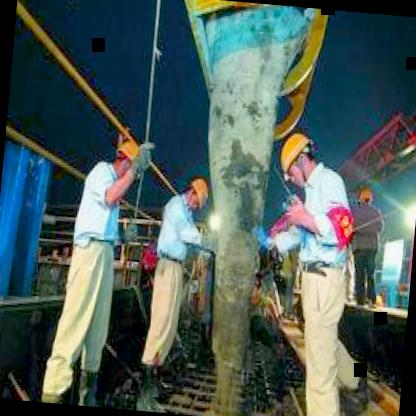helmet: (274, 124, 321, 192), (112, 138, 146, 187), (184, 178, 210, 219), (358, 182, 373, 212)
